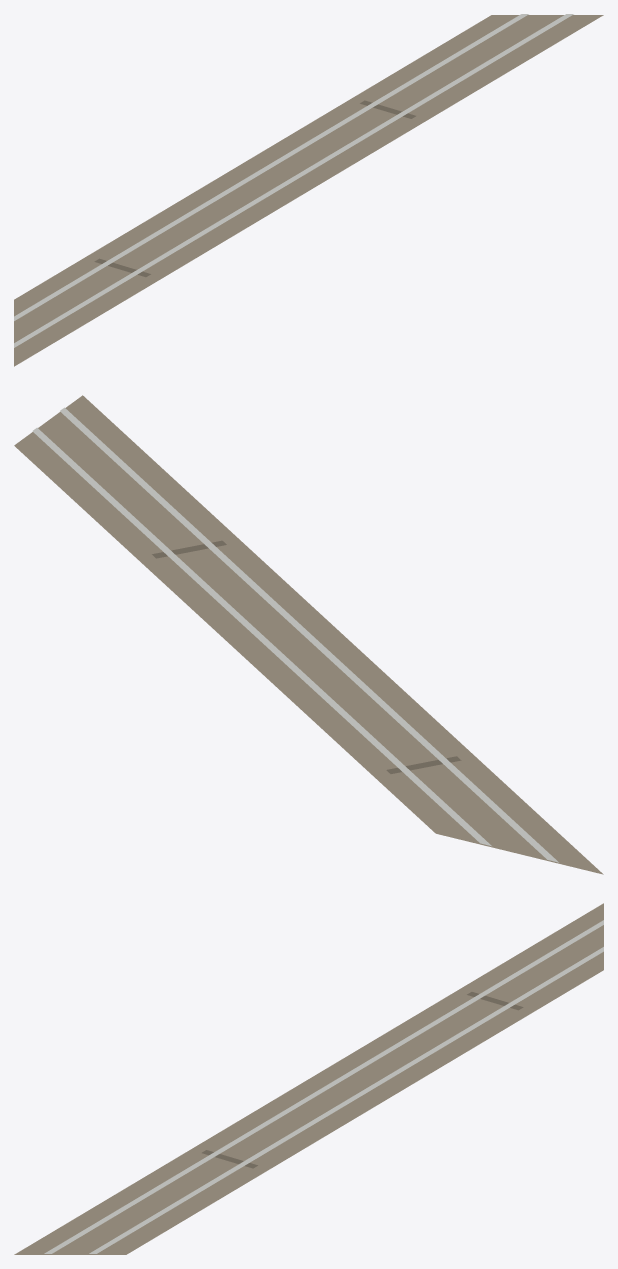
3 views of the same model, one above another, from view 1: azimuth 90°, elevation 25°; view 2: azimuth 150°, elevation 25°; view 3: azimuth 270°, elevation 25° (orthographic). The views are drawn at different scales.
Parts seen in each view (by area): view 1: rail; view 2: rail; view 3: rail.
Part boxes in pixels (x1,y1,x2,y2): rail: (14,14,603,366); rail: (14,395,603,874); rail: (14,903,603,1254).
Bounding box in the file's own units: 32.65 × 0.04 × 23.14.
